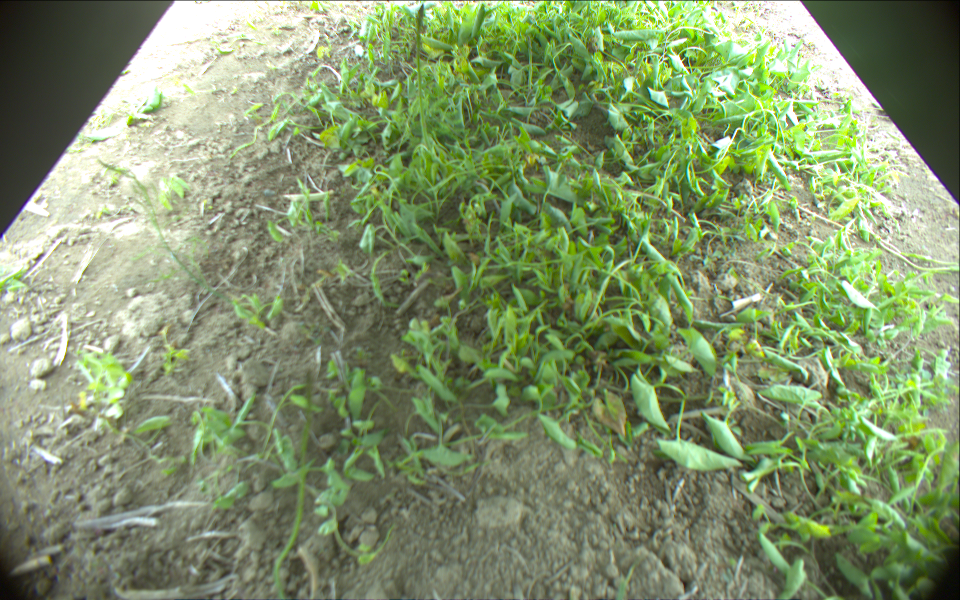aspa: (275, 371, 317, 600), (414, 4, 434, 160)
